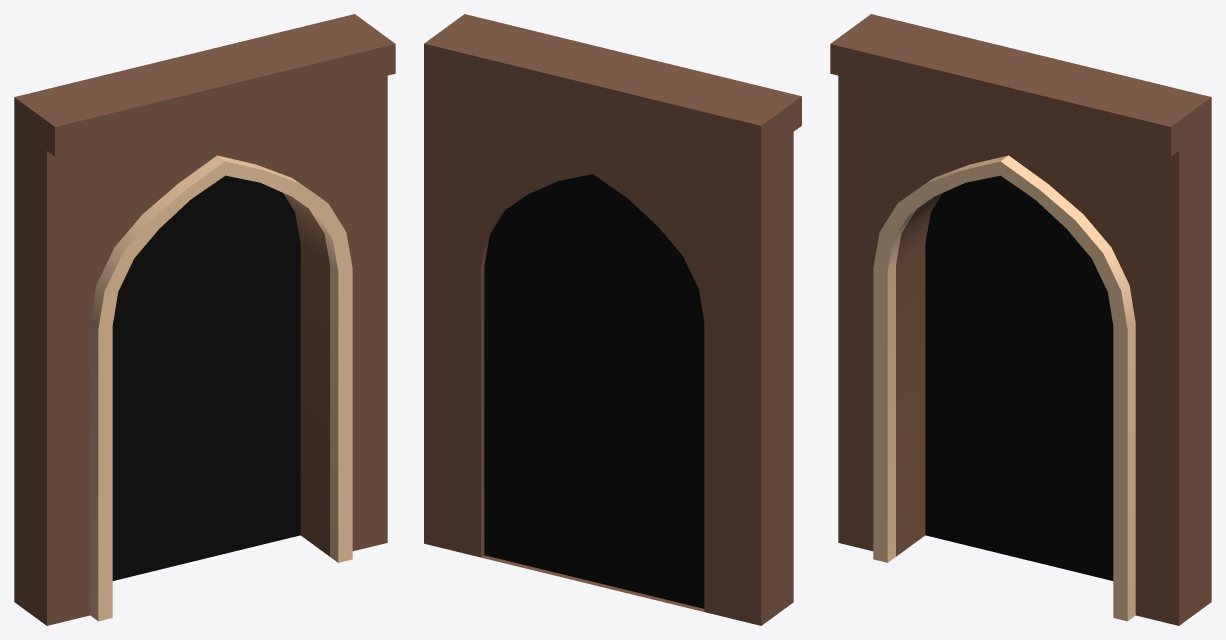
The model's file is Doorway_Large.fbx.
3 views of the same model, side by side, from view 1: azimuth 30°, elevation 25°; view 2: azimuth 150°, elevation 25°; view 3: azimuth 330°, elevation 25° (orthographic).
Visible parts, largest first — view 1: Doorway_Large.001; view 2: Doorway_Large.001; view 3: Doorway_Large.001.
Boxes of the visible parts, x1=… form: Doorway_Large.001: x1=14, y1=14, x2=395, y2=625; Doorway_Large.001: x1=424, y1=14, x2=801, y2=625; Doorway_Large.001: x1=830, y1=14, x2=1211, y2=625.
Bounding box in the file's own units: 6 × 8.5 × 1.25.
